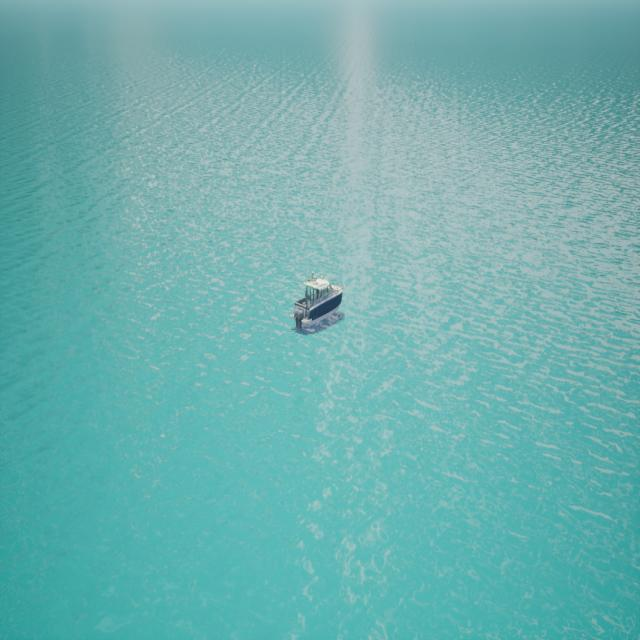ship: (292, 277, 343, 333)
